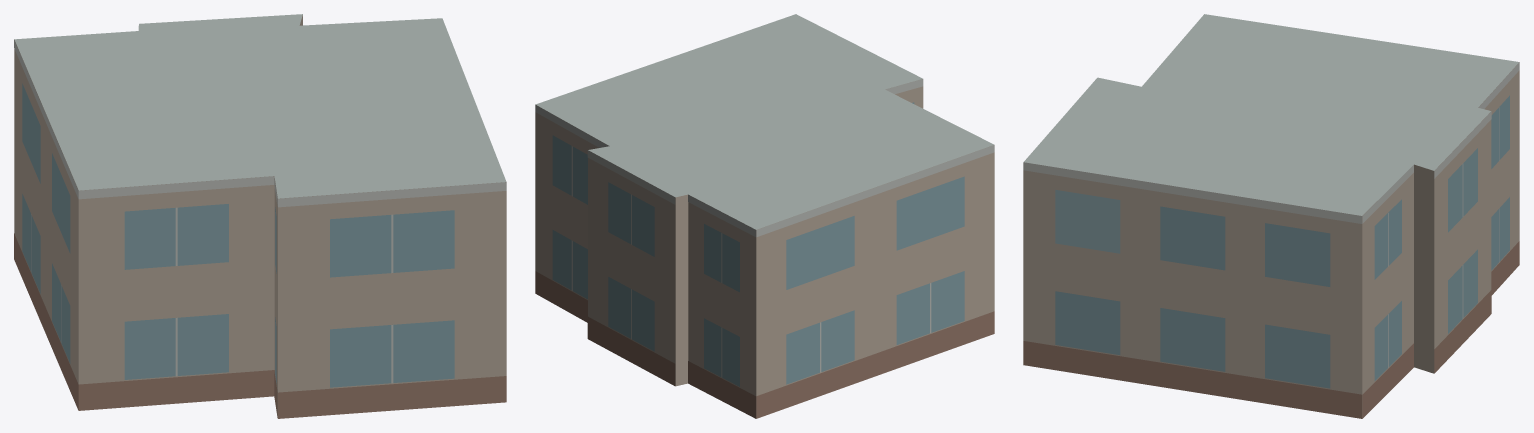
File: survey-upis-32936131.glb
3 renders of one model, left to right at view 1: azimuth 30°, elevation 25°; view 2: azimuth 150°, elevation 25°; view 3: azimuth 270°, elevation 25°, orthographic. The views are drawn at different scales.
Parts seen in each view (by area): view 1: survey-upis-32936131.tmp; view 2: survey-upis-32936131.tmp; view 3: survey-upis-32936131.tmp.
Boxes of the visible parts, x1=… form: survey-upis-32936131.tmp: x1=14, y1=14, x2=506, y2=418; survey-upis-32936131.tmp: x1=535, y1=14, x2=994, y2=418; survey-upis-32936131.tmp: x1=1023, y1=14, x2=1519, y2=418.
Size of the model in its own units: 13.04 by 6.1 by 13.53.
